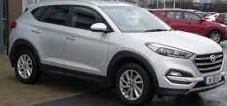SUV: (11, 5, 226, 105)
